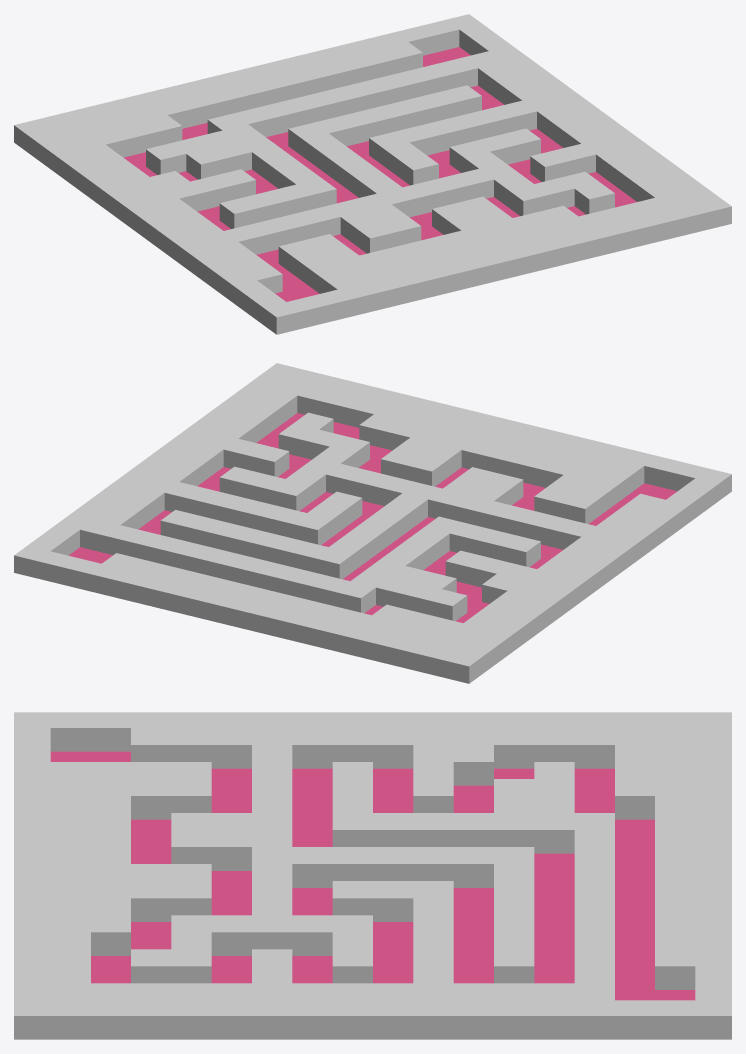
The model's file is Board.fbx.
3 renders of one model, top to bottom at view 1: azimuth 30°, elevation 25°; view 2: azimuth 150°, elevation 25°; view 3: azimuth 270°, elevation 25°, orthographic. The views are drawn at different scales.
Parts seen in each view (by area): view 1: GroundBase; view 2: GroundBase; view 3: GroundBase.
Part boxes in pixels (left/top/right/bottom): GroundBase: left=14, top=14, right=731, bottom=334; GroundBase: left=14, top=363, right=731, bottom=683; GroundBase: left=14, top=712, right=731, bottom=1039.
Bounding box in the file's own units: 1662 × 60.69 × 1662.
